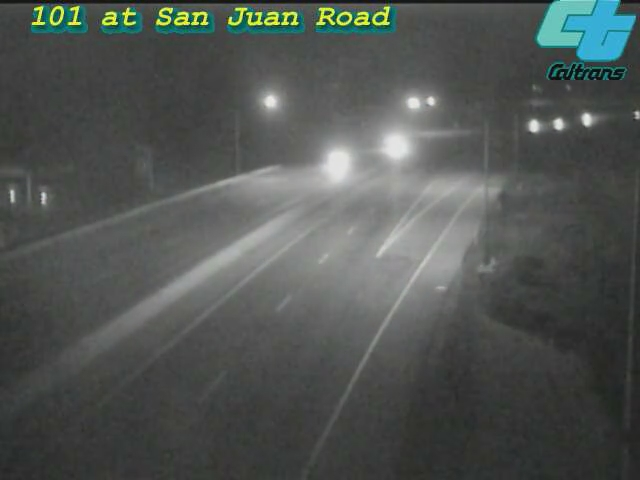vehicle: (293, 123, 373, 203), (365, 121, 415, 171), (561, 95, 611, 145), (536, 98, 586, 148), (507, 102, 557, 152)
